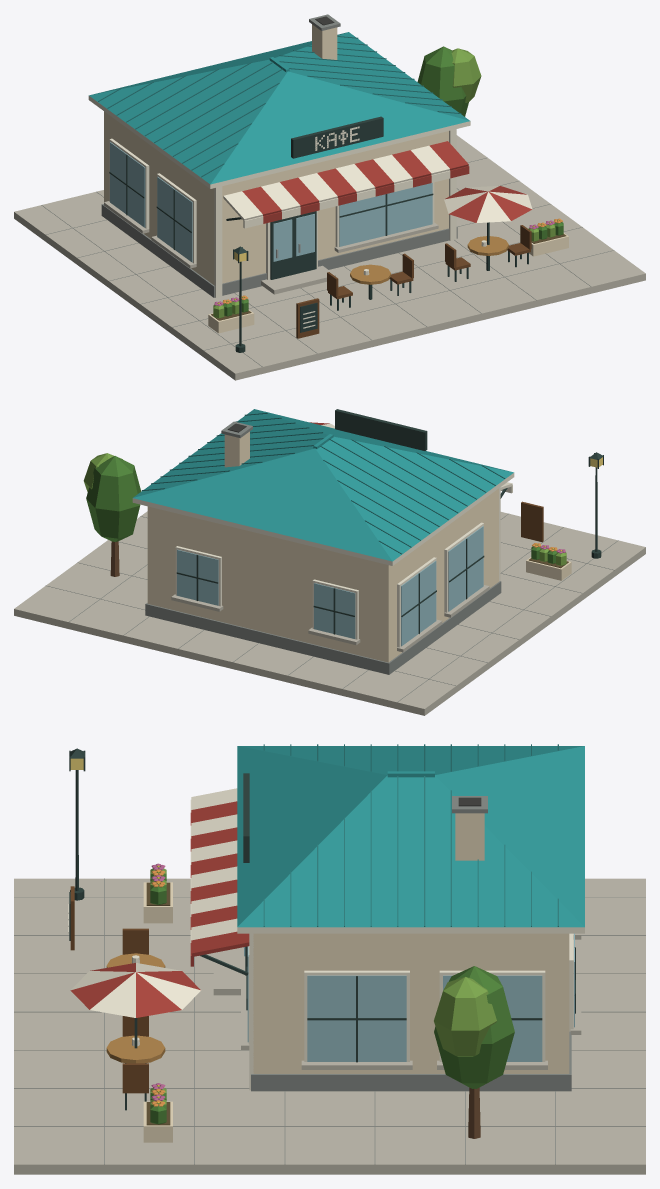
File: 03_Cafe.obj
3 renders of one model, top to bottom at view 1: azimuth 30°, elevation 25°; view 2: azimuth 150°, elevation 25°; view 3: azimuth 270°, elevation 25°, orthographic. The views are drawn at different scales.
Parts seen in each view (by area): view 1: 03_Cafe; view 2: 03_Cafe; view 3: 03_Cafe.
Part boxes in pixels (x1,y1,x2,y2): 03_Cafe: (14, 14, 645, 380); 03_Cafe: (14, 409, 645, 715); 03_Cafe: (14, 744, 645, 1174).
Bounding box in the file's own units: 15 × 6.36 × 14.
Materials: 1 (1 with a texture image).
